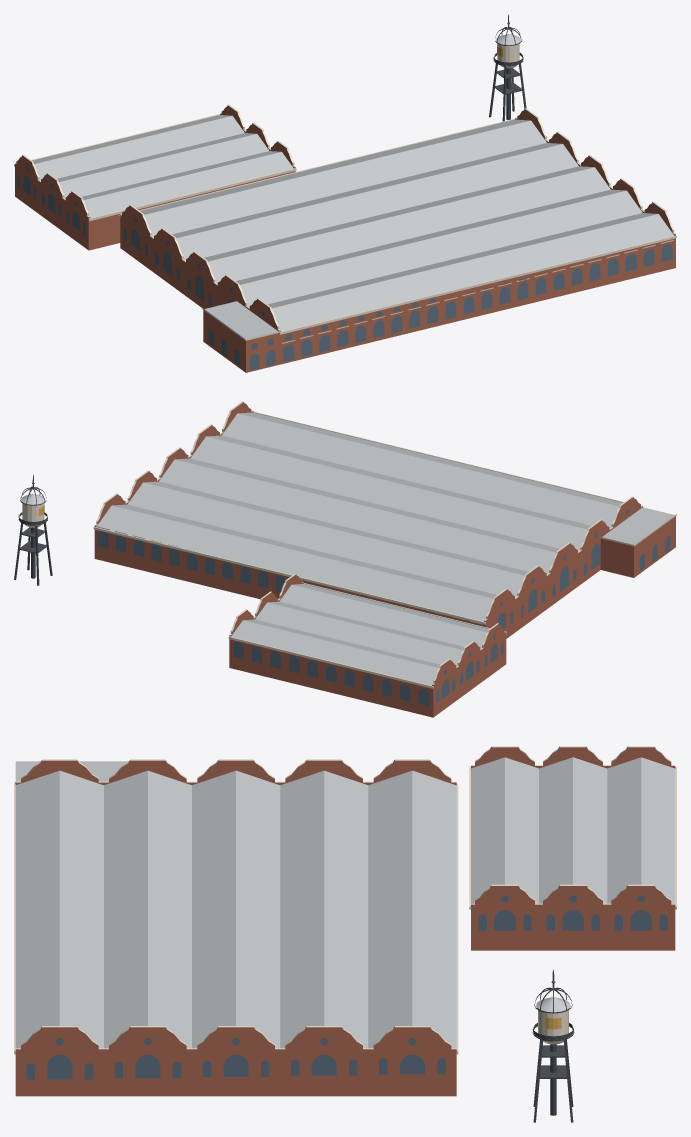
File: slc-trolley-square.glb
3 views of the same model, one above another, from view 1: azimuth 30°, elevation 25°; view 2: azimuth 150°, elevation 25°; view 3: azimuth 270°, elevation 25° (orthographic). The views are drawn at different scales.
Visible parts, largest first — view 1: Trolley Square; view 2: Trolley Square; view 3: Trolley Square.
Part boxes in pixels (bbox=[...]): Trolley Square: bbox=[14, 14, 676, 372]; Trolley Square: bbox=[14, 401, 676, 717]; Trolley Square: bbox=[14, 746, 676, 1122].
Size of the model in its own units: 157 by 33.4 by 138.
